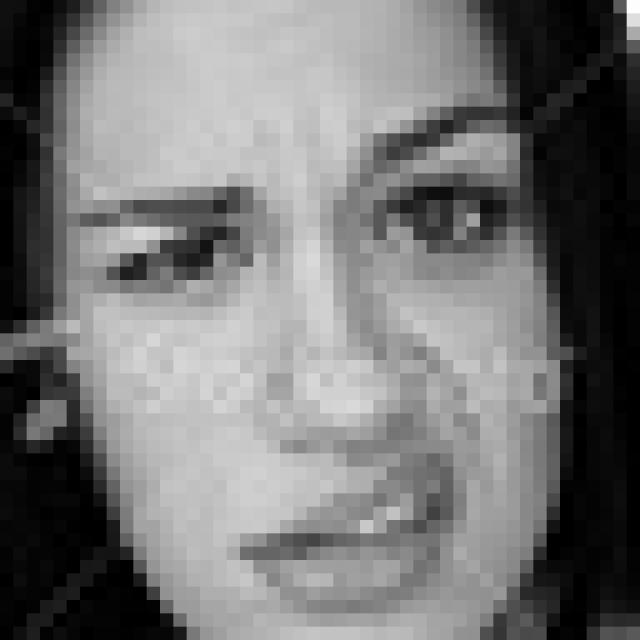disgust: (79, 95, 531, 629)
